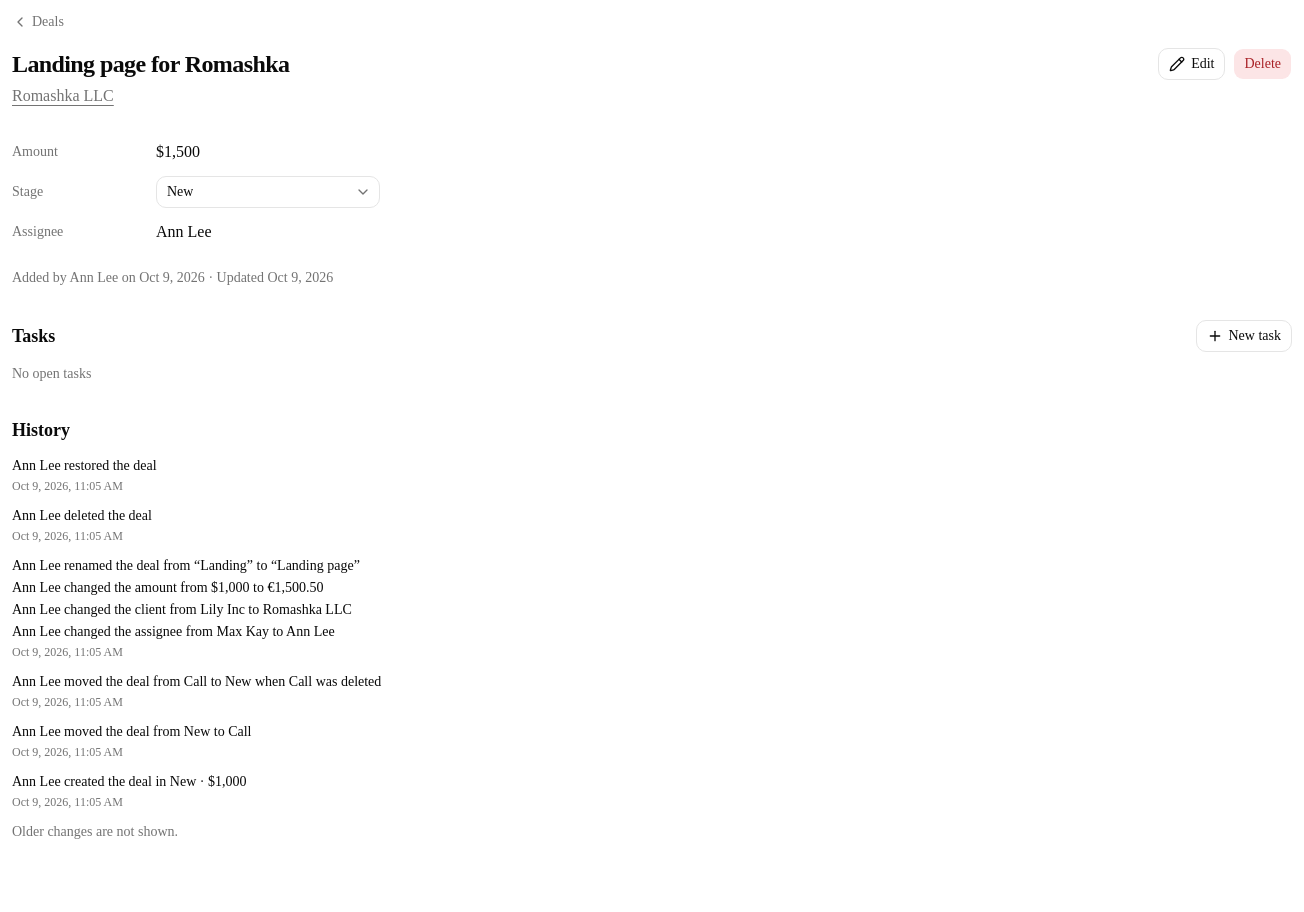
Scenario: DealView › should move the deal to the chosen stage and show it when the stage select changes
Click the dropdown named "Stage".
click(268, 192)  # box [156,176,380,208]
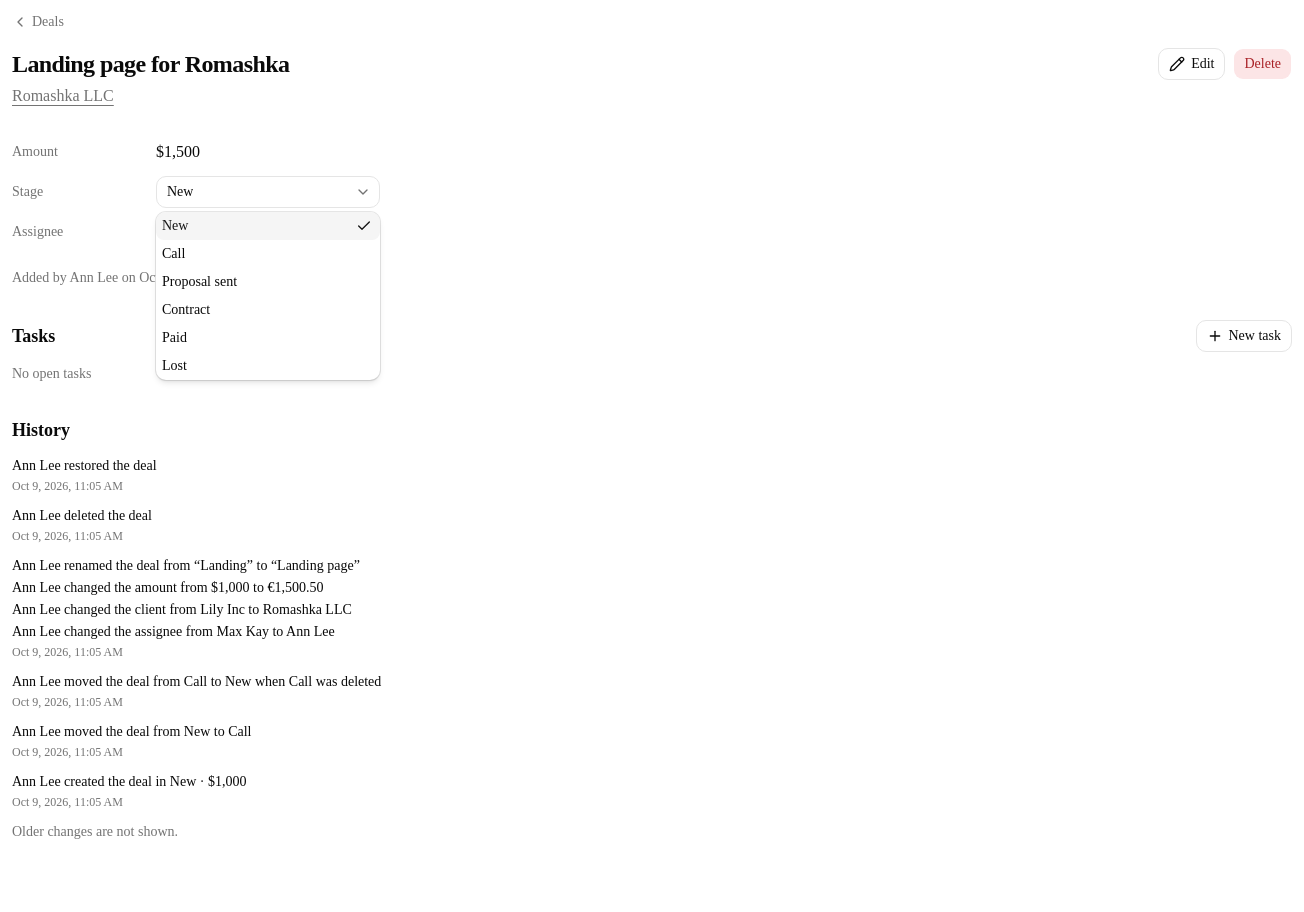
Click the option "Call".
click(174, 254)  # box [162,246,185,261]
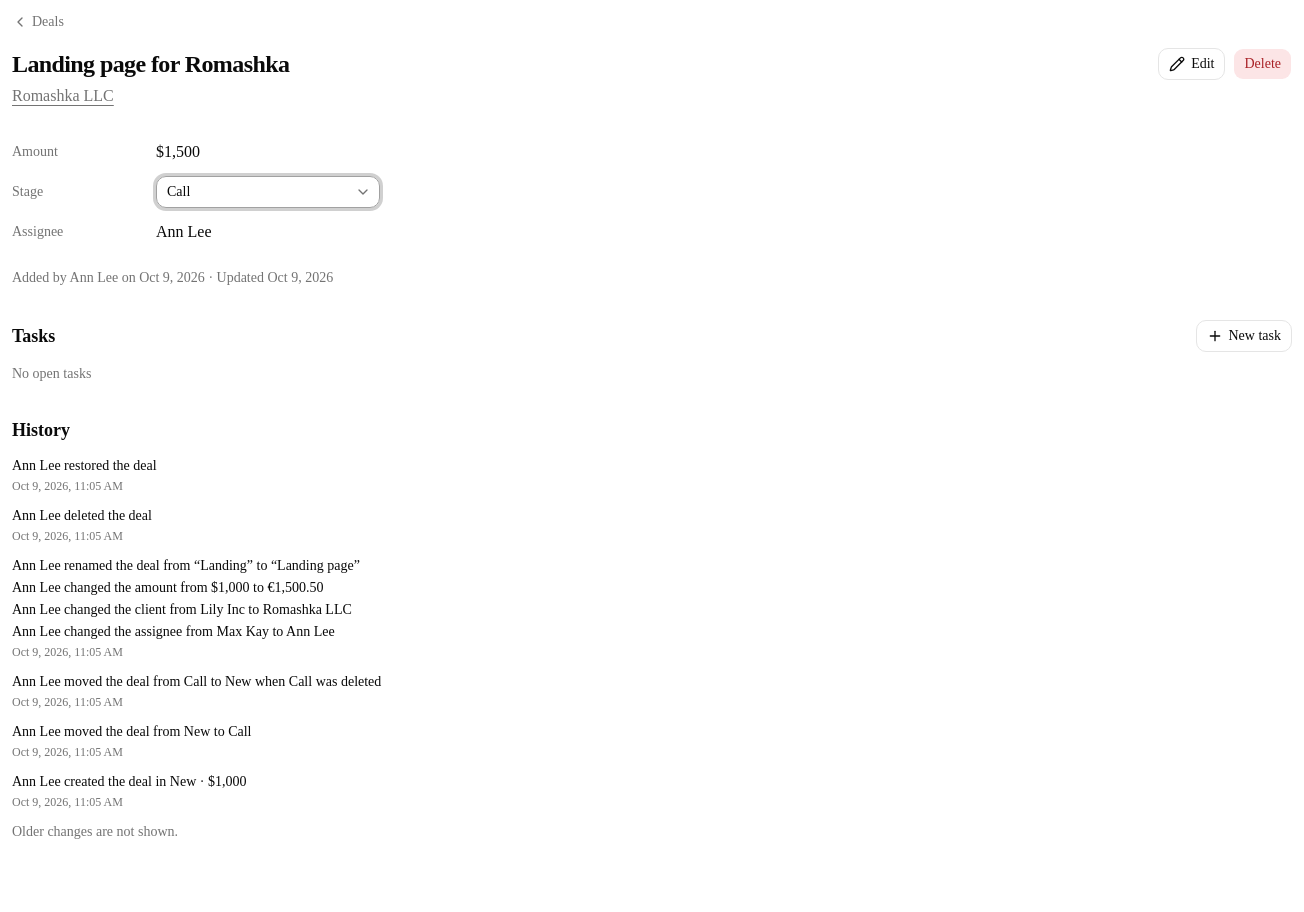
expect the dropdown named "Stage" reads "Call": met, box [156,176,380,208]
